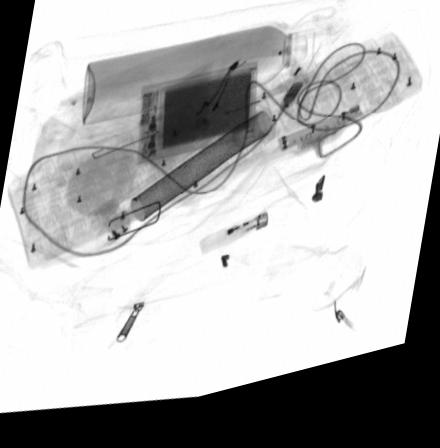Lighter: (199, 222, 268, 267)
Powerbank: (136, 75, 258, 172)
Sprayer: (83, 39, 315, 130)
